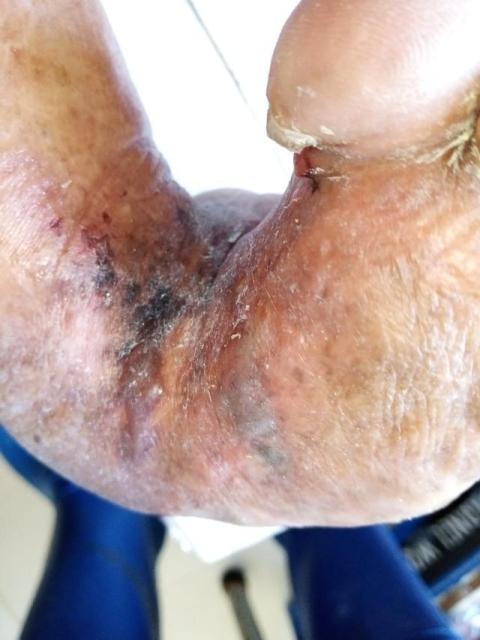wound: (118, 196, 255, 456)
